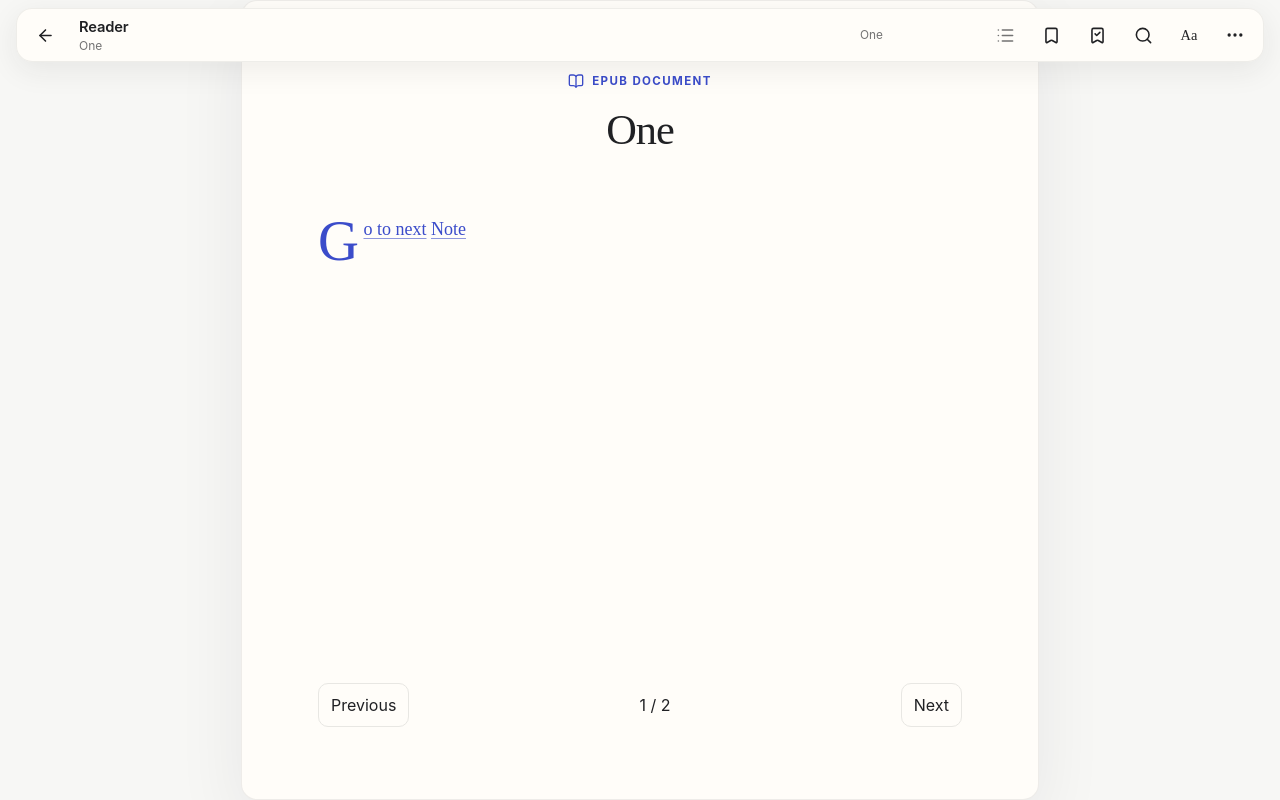
Test case: ImportedDocumentReader internal link harness › opens footnotes without history, closes other panels, and only Open note in text adds history
The image size is (1280, 800).
Click the link "Note".
click(448, 229)  # box x1=431 y1=219 x2=466 y2=239
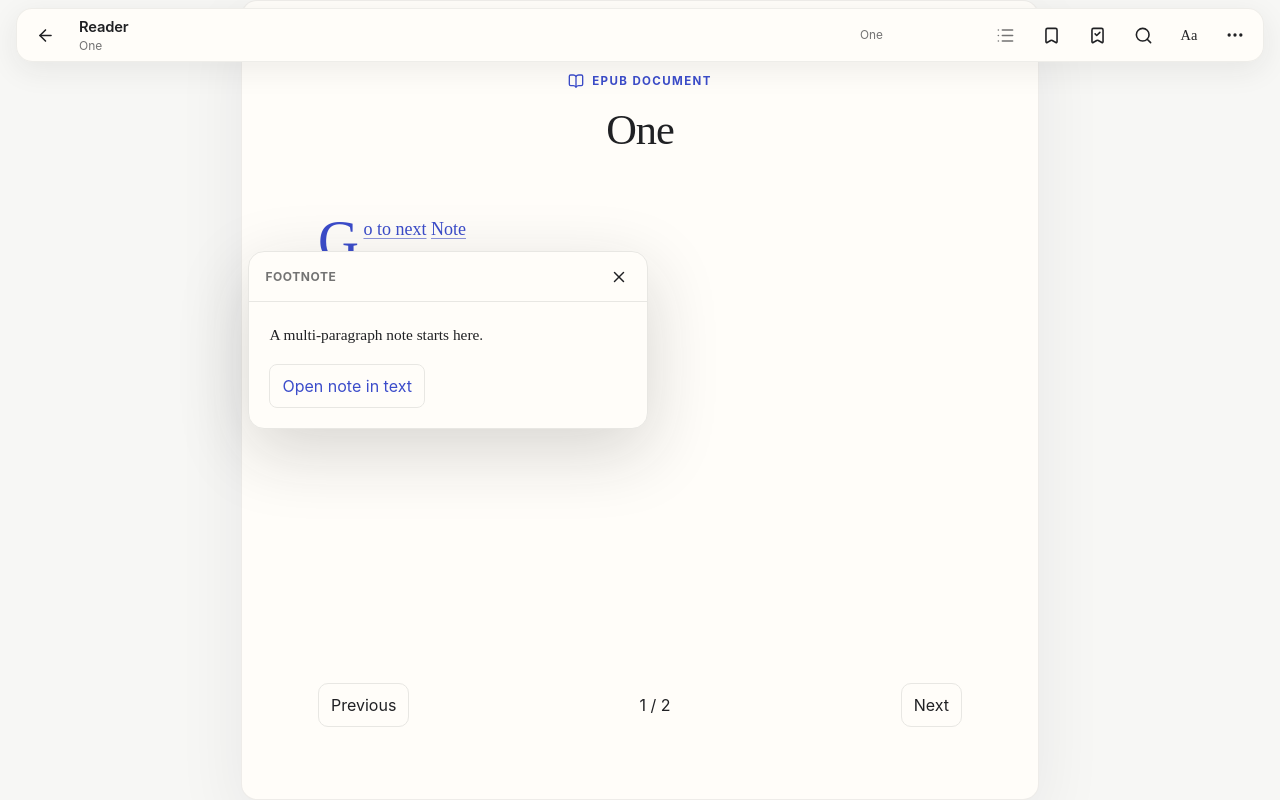
Expected: the button named "Back to Library" is shown, x1=23 y1=13 x2=67 y2=57
Expected: the dialog named "Footnote" is shown, x1=248 y1=251 x2=648 y2=428
Click the button named "Search in current book".
click(1143, 35)  # box x1=1121 y1=13 x2=1165 y2=57
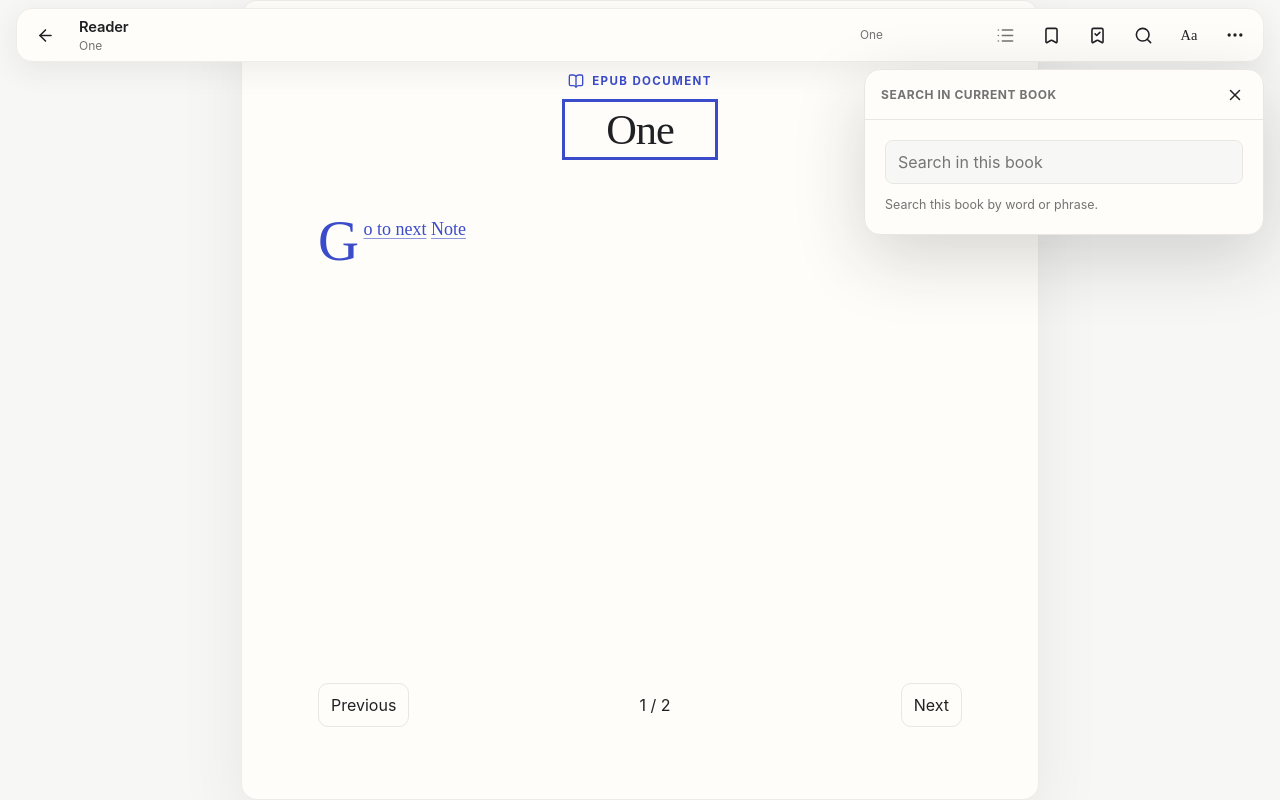
Expected: the dialog named "Footnote" is gone
